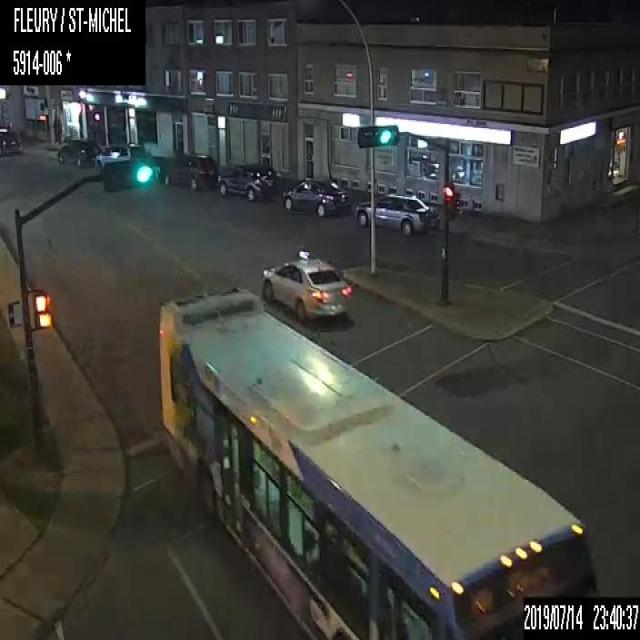bus: (158, 285, 598, 639)
vehicle: (260, 250, 351, 318), (355, 193, 432, 236), (281, 180, 350, 216), (218, 163, 276, 202), (166, 152, 217, 189), (57, 138, 101, 168), (94, 145, 145, 169), (0, 122, 22, 154)
